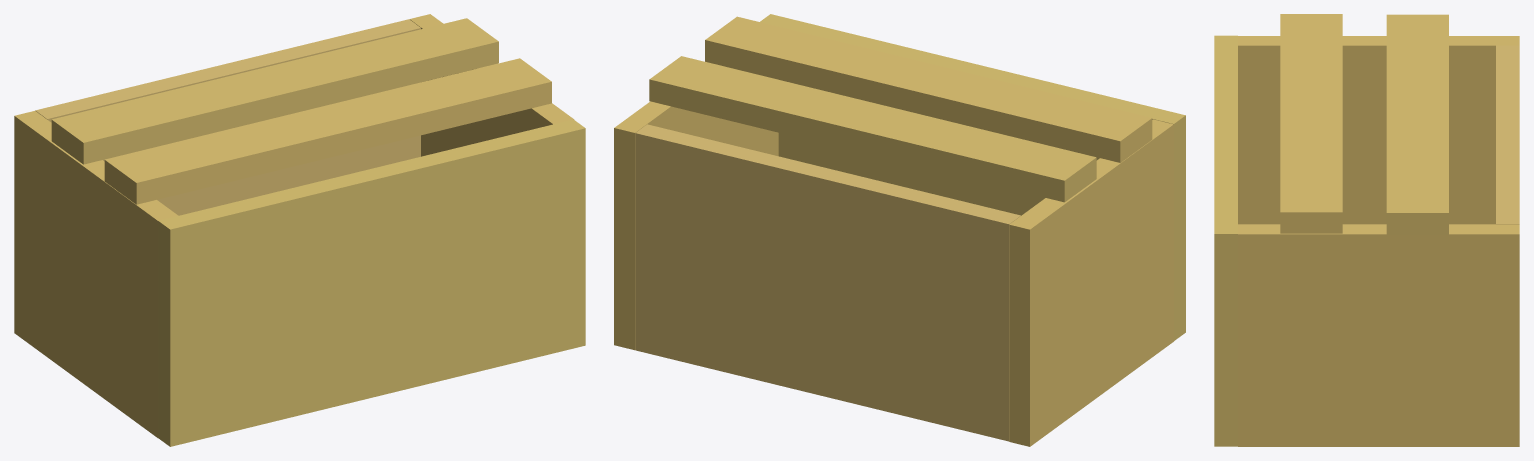
Rendered from tinker.obj.
3 renders of one model, left to right at view 1: azimuth 30°, elevation 25°; view 2: azimuth 150°, elevation 25°; view 3: azimuth 270°, elevation 25°, orthographic. The views are drawn at different scales.
Visible parts, largest first — view 1: group_0_14665328, group_0_14795888, group_0_14664816, group_0_14795894; view 2: group_0_14795894, group_0_14795888, group_0_14664816, group_0_14665328; view 3: group_0_14795888, group_0_14664816, group_0_14665328, group_0_14795894.
Part boxes in pixels (bbox=[...]): group_0_14665328: bbox=[158, 119, 585, 446]; group_0_14795888: bbox=[14, 14, 574, 437]; group_0_14664816: bbox=[51, 18, 498, 164]; group_0_14795894: bbox=[35, 19, 420, 215]; group_0_14795894: bbox=[635, 124, 1020, 441]; group_0_14795888: bbox=[614, 16, 1173, 446]; group_0_14664816: bbox=[649, 56, 1096, 202]; group_0_14665328: bbox=[760, 14, 1185, 340]; group_0_14795888: bbox=[1238, 14, 1519, 446]; group_0_14664816: bbox=[1386, 14, 1448, 234]; group_0_14665328: bbox=[1214, 35, 1237, 446]; group_0_14795894: bbox=[1496, 45, 1519, 224].
Bounding box in the file's own units: 301 × 165 × 195.
